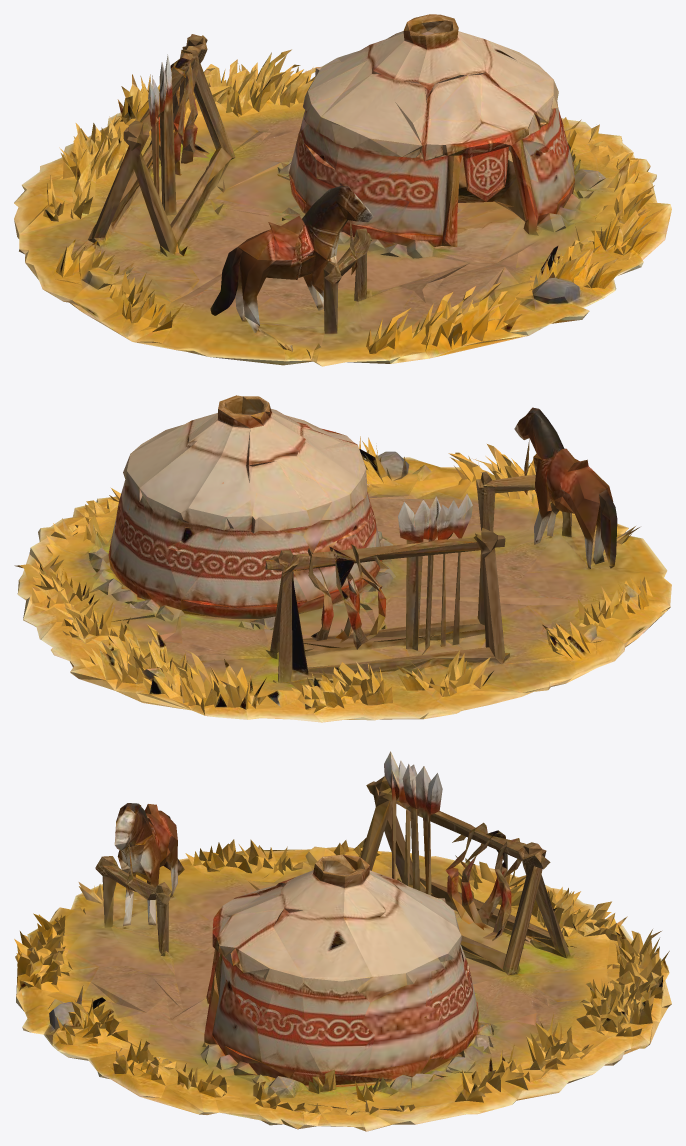
The model's file is m_kisla.glb.
3 renders of one model, top to bottom at view 1: azimuth 30°, elevation 25°; view 2: azimuth 150°, elevation 25°; view 3: azimuth 270°, elevation 25°, orthographic. The views are drawn at different scales.
Bounding box in the file's own units: 1.9 × 0.542 × 1.86.
1 material, 1 textured.
